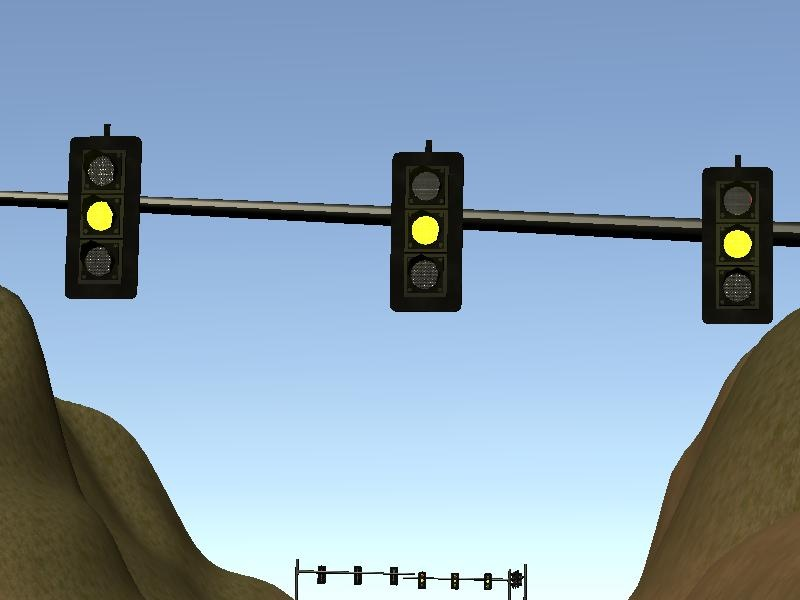YELLOW: (62, 137, 142, 300), (701, 167, 778, 325), (387, 153, 464, 311)
